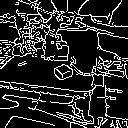cube: (52, 60, 76, 83)
